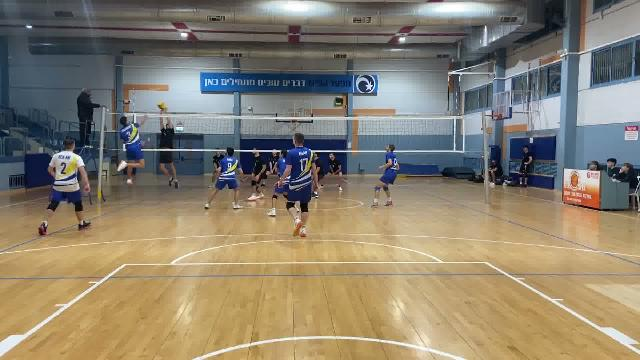ball: (157, 101, 168, 112)
